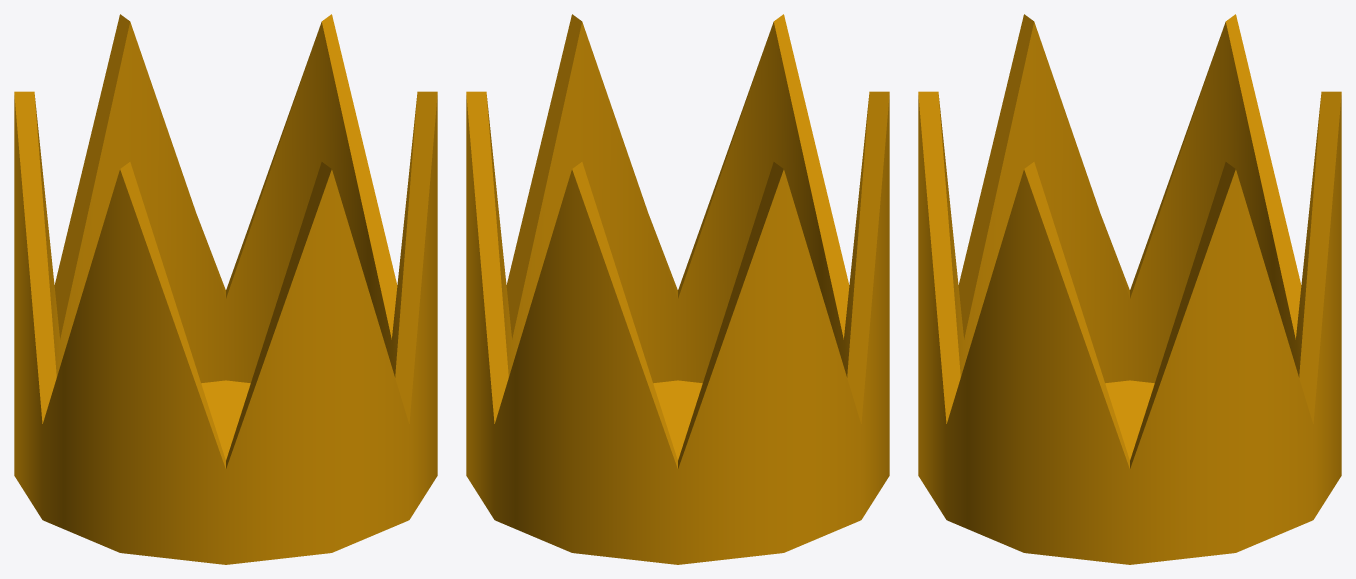
Rendered from crown.fbx.
3 renders of one model, left to right at view 1: azimuth 30°, elevation 25°; view 2: azimuth 150°, elevation 25°; view 3: azimuth 270°, elevation 25°, orthographic.
Parts seen in each view (by area): view 1: Cylinder; view 2: Cylinder; view 3: Cylinder.
Boxes of the visible parts, bbox=[...] form: Cylinder: bbox=[14, 14, 437, 564]; Cylinder: bbox=[466, 14, 889, 564]; Cylinder: bbox=[918, 14, 1341, 564].
Bounding box in the file's own units: 200 × 200 × 200.
